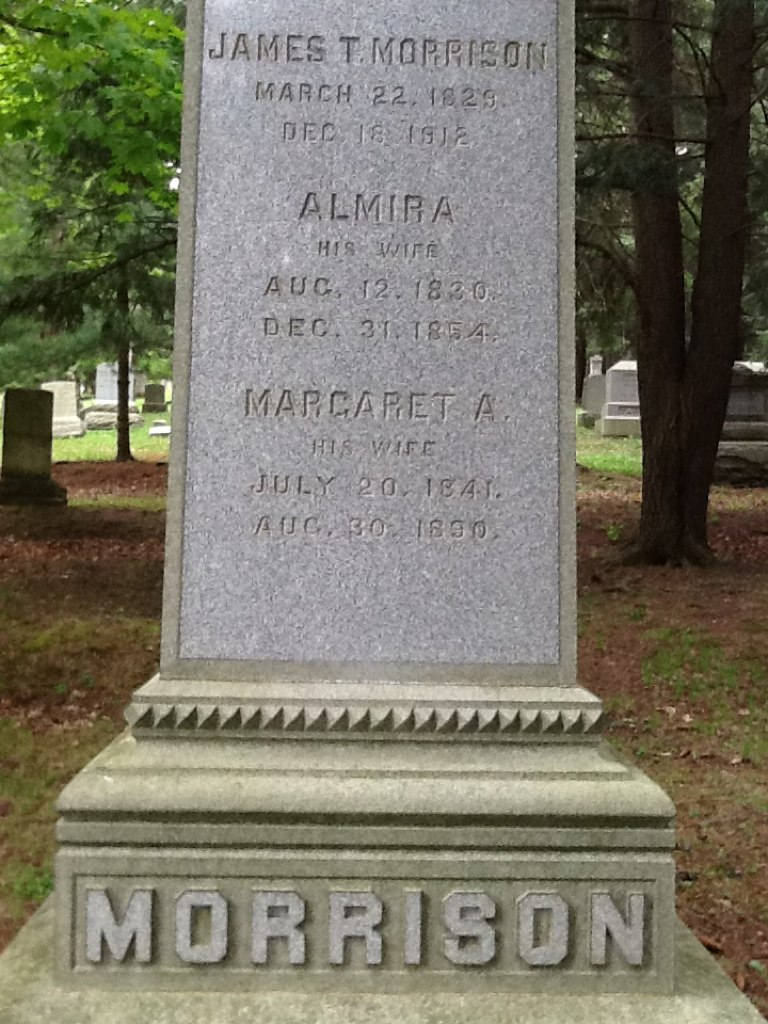obelisk: (128, 0, 605, 745)
